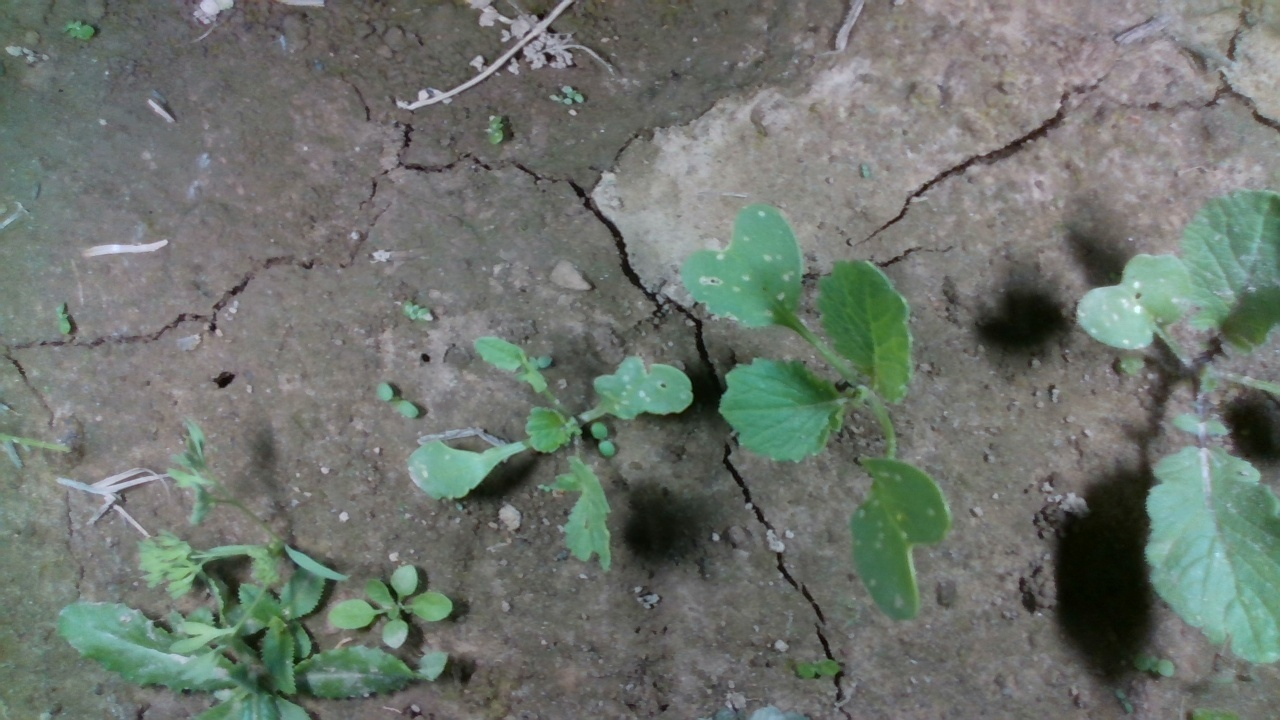weed: (373, 370, 430, 423), (549, 82, 593, 123), (479, 111, 514, 152), (62, 16, 103, 50), (792, 655, 842, 680), (590, 421, 618, 460), (395, 297, 430, 326), (858, 162, 880, 180)
